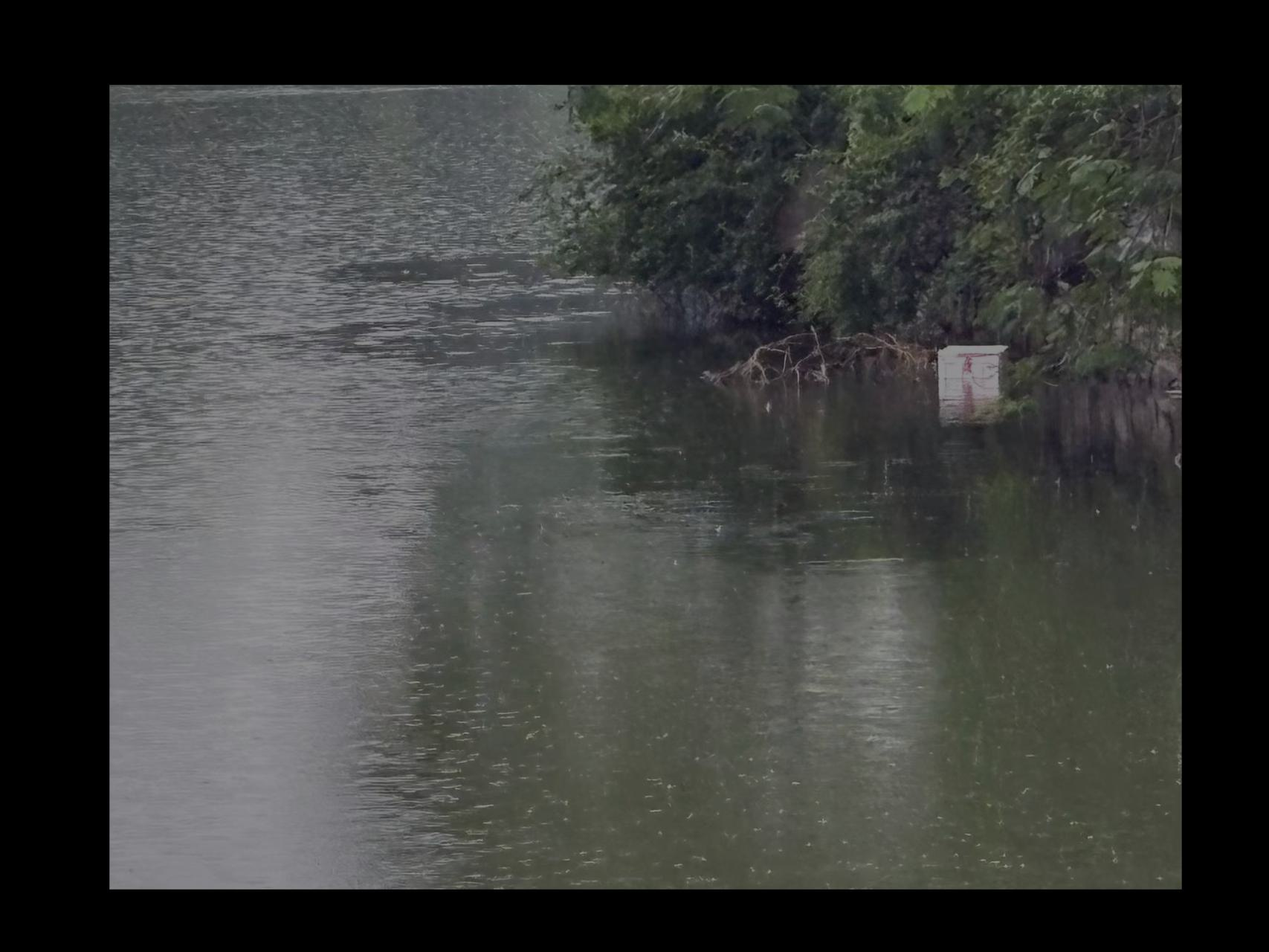Plastic wastes: (933, 343, 1007, 393)
